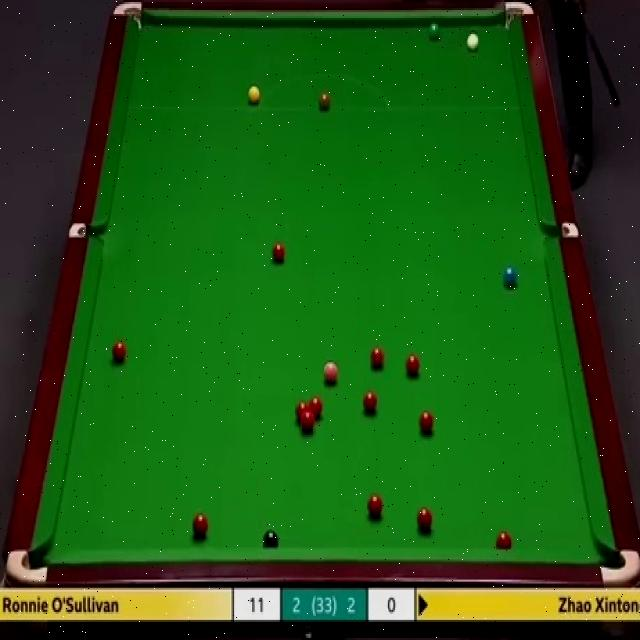black-ball: (262, 529, 281, 549)
blue-ball: (502, 268, 518, 286)
brown-ball: (318, 88, 331, 109)
green-ball: (427, 22, 441, 41)
pink-ball: (323, 361, 339, 386)
red-ball: (416, 507, 434, 534), (360, 388, 378, 413), (366, 494, 384, 519), (405, 352, 422, 378), (191, 512, 208, 538), (111, 337, 126, 362), (418, 409, 434, 432), (295, 400, 309, 426), (309, 396, 323, 420), (370, 345, 385, 367), (272, 239, 284, 266), (495, 529, 513, 547), (301, 413, 316, 433)
white-ball: (466, 31, 481, 53)
yellow-ball: (247, 87, 260, 103)
